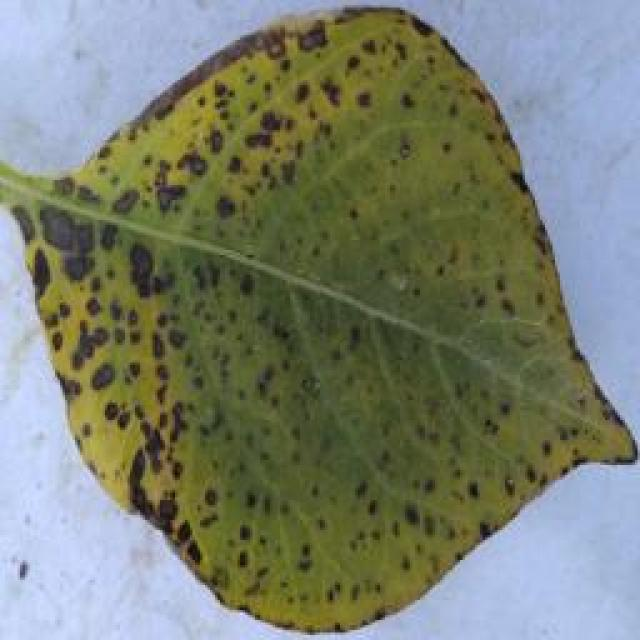Potato_Early_Blight: (2, 0, 639, 631)
